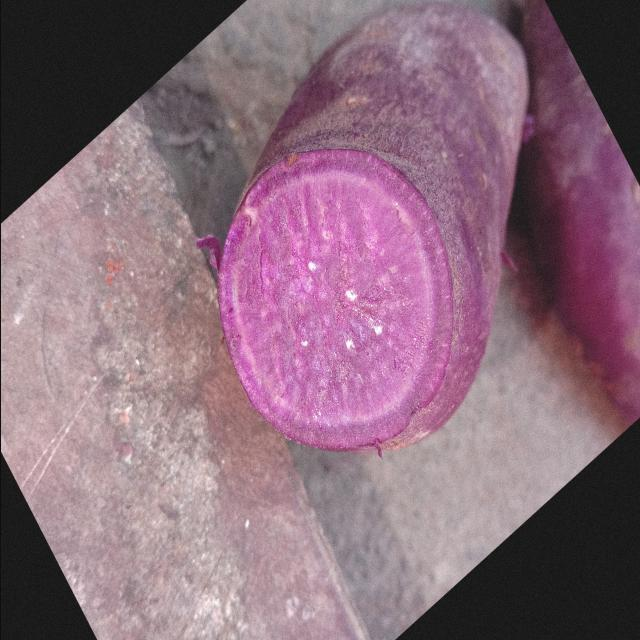Healthy Sweet Potato: (218, 150, 451, 450)
